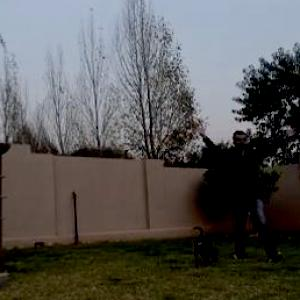takeoff: (191, 135, 286, 256)
